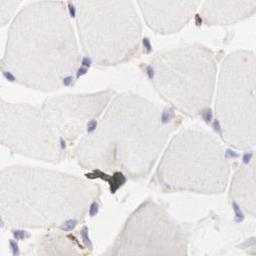nucleus: (82, 225, 98, 251), (231, 201, 244, 225), (11, 228, 32, 240), (140, 38, 155, 54), (161, 105, 173, 125), (7, 238, 20, 256), (88, 202, 103, 217), (74, 66, 91, 79), (58, 219, 78, 230), (86, 118, 99, 134), (66, 1, 77, 19), (201, 108, 213, 124), (224, 147, 240, 159), (212, 118, 222, 137), (242, 150, 254, 165), (2, 71, 15, 83), (64, 76, 77, 86), (83, 54, 92, 68), (146, 64, 153, 79), (59, 135, 66, 149)
positive_cell: (71, 227, 90, 249), (140, 61, 154, 80)
